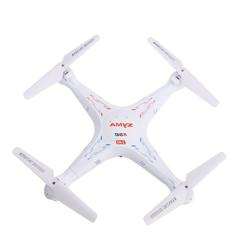drone: (13, 33, 229, 227)
